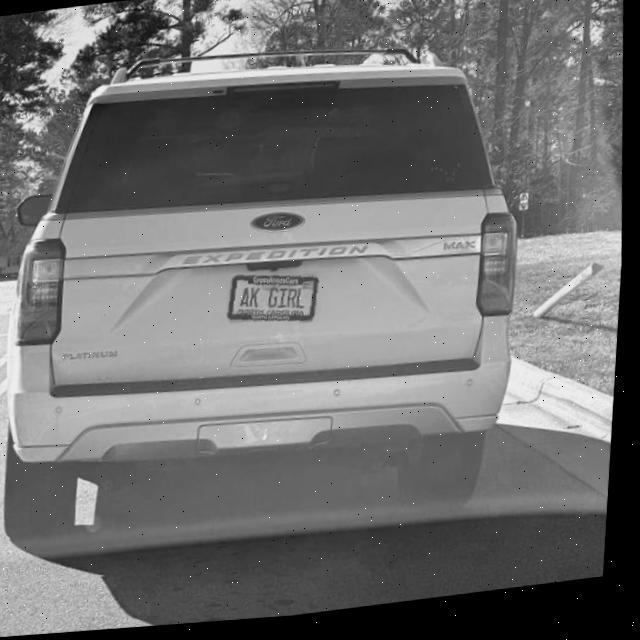LicensePlate: (229, 279, 322, 327)
